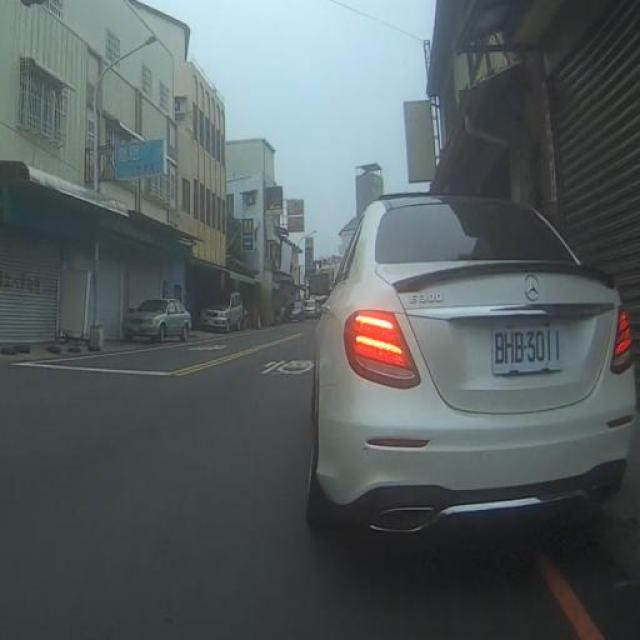Legalparking: (125, 300, 192, 340), (198, 292, 246, 330), (285, 299, 319, 320)
illegalparking: (306, 195, 636, 532)
